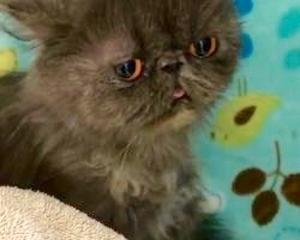persian: (11, 1, 244, 136)
